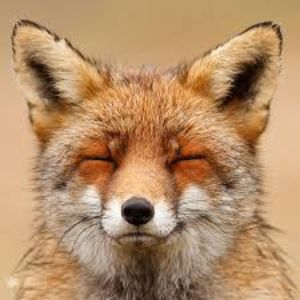fox: (13, 13, 289, 293)
